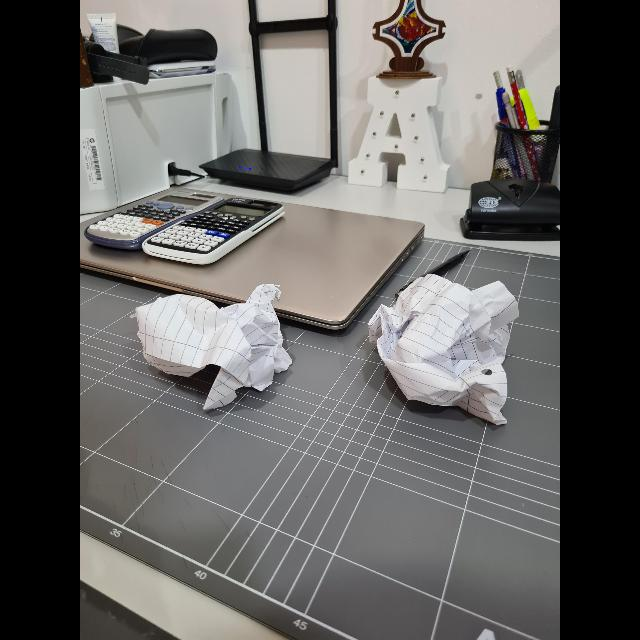scrap_paper: (369, 268, 516, 432), (136, 276, 296, 406)
